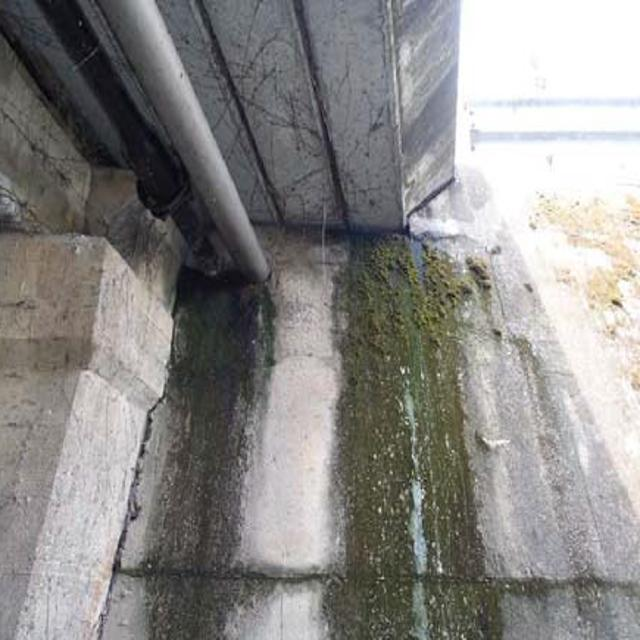leakage: (326, 214, 521, 636), (161, 251, 273, 640)
